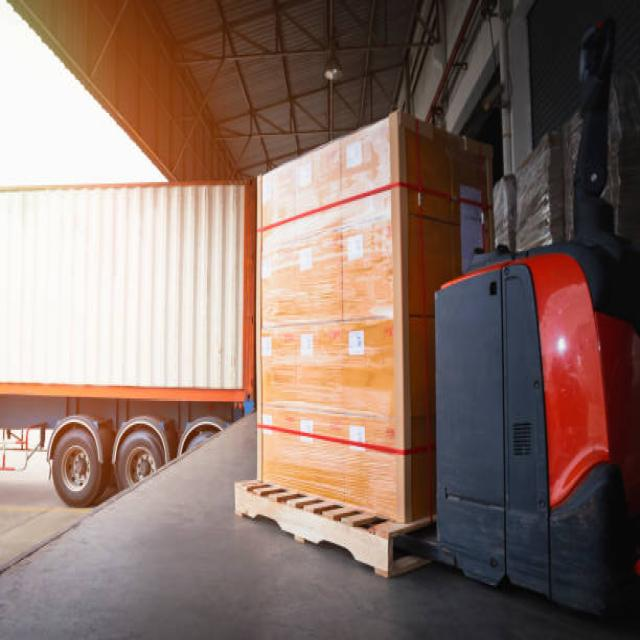Wooden-Pallets: (225, 485, 392, 580)
